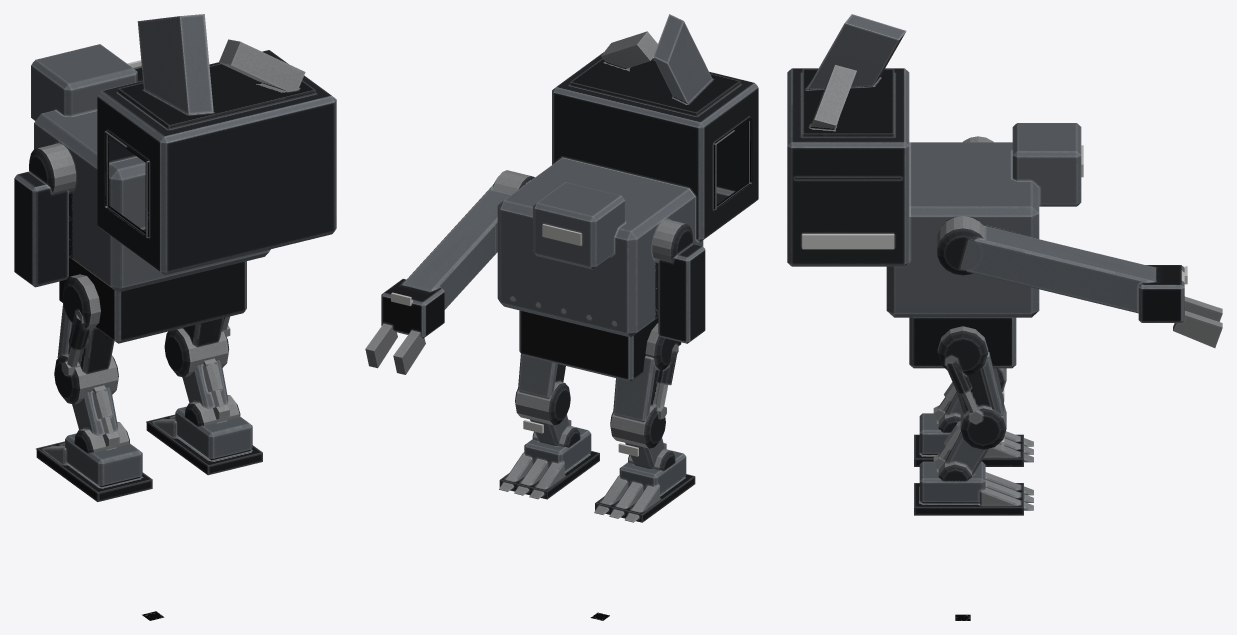
Rendered from chs_graverobber.fbx.
The picture shows the model from 3 angles, left to right: view 1: azimuth 30°, elevation 25°; view 2: azimuth 150°, elevation 25°; view 3: azimuth 270°, elevation 25°; orthographic projection. The views are drawn at different scales.
Visible parts, largest first — view 1: base_bar, thighL_bar, footL_bar, footR_bar, thighR_bar, shinR_bar, shinL_bar; view 2: base_bar, nano_bar, thighL_bar, footL_bar, footR_bar, thighR_bar, shinL_bar, shinR_bar, base_glow_head_bar; view 3: base_bar, nano_bar, thighR_bar, footR_bar, footL_bar, shinR_bar, base_glow_power_bar, shinL_bar.
Part boxes in pixels (x1=…): base_bar: x1=14, y1=14, x2=336, y2=343; thighL_bar: x1=54, y1=274, x2=118, y2=404; footL_bar: x1=36, y1=433, x2=152, y2=501; footR_bar: x1=146, y1=406, x2=262, y2=475; thighR_bar: x1=164, y1=316, x2=230, y2=377; shinR_bar: x1=182, y1=358, x2=240, y2=426; shinL_bar: x1=72, y1=385, x2=129, y2=453; base_bar: x1=497, y1=14, x2=758, y2=381; nano_bar: x1=365, y1=170, x2=534, y2=374; thighL_bar: x1=610, y1=323, x2=678, y2=448; footL_bar: x1=594, y1=449, x2=695, y2=522; footR_bar: x1=499, y1=426, x2=599, y2=499; thighR_bar: x1=515, y1=354, x2=570, y2=425; shinL_bar: x1=625, y1=438, x2=675, y2=470; shinR_bar: x1=530, y1=415, x2=580, y2=447; base_glow_head_bar: x1=542, y1=224, x2=581, y2=245; base_bar: x1=787, y1=14, x2=1081, y2=368; nano_bar: x1=937, y1=216, x2=1222, y2=347; thighR_bar: x1=937, y1=326, x2=1006, y2=449; footR_bar: x1=914, y1=461, x2=1033, y2=515; footL_bar: x1=914, y1=413, x2=1033, y2=466; shinR_bar: x1=933, y1=421, x2=988, y2=480; base_glow_power_bar: x1=802, y1=234, x2=894, y2=249; shinL_bar: x1=933, y1=382, x2=961, y2=432.
Size of the model in its own units: 345 by 849 by 570.
Materials: 2 (2 with a texture image).
